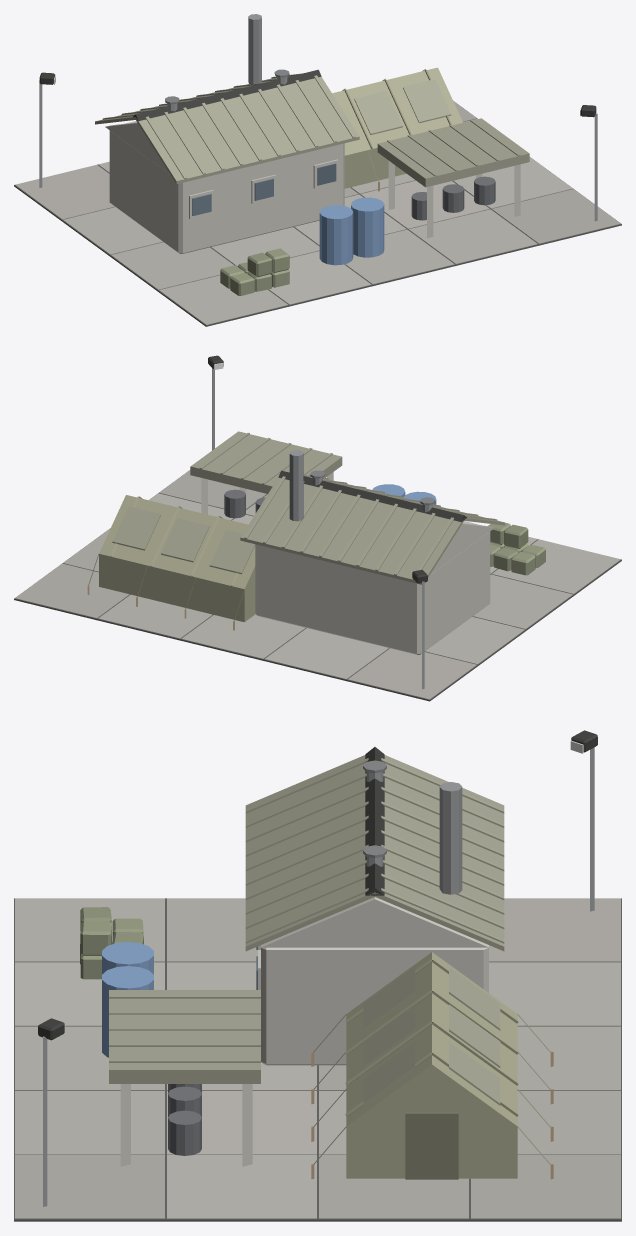
File: b_kitchen.glb
The picture shows the model from 3 angles, top to bottom: view 1: azimuth 30°, elevation 25°; view 2: azimuth 150°, elevation 25°; view 3: azimuth 270°, elevation 25°; orthographic projection. The views are drawn at different scales.
Parts seen in each view (by area): view 1: hull; view 2: hull; view 3: hull.
Boxes of the visible parts, bbox=[...] form: hull: bbox=[14, 14, 621, 326]; hull: bbox=[14, 355, 621, 701]; hull: bbox=[14, 730, 621, 1221].
Size of the model in its own units: 20 by 7.5 by 16.
